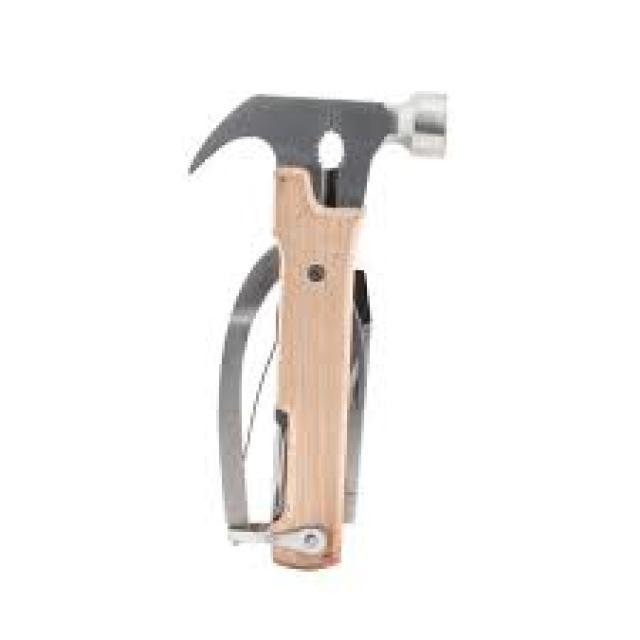Palu: (191, 71, 460, 569)
